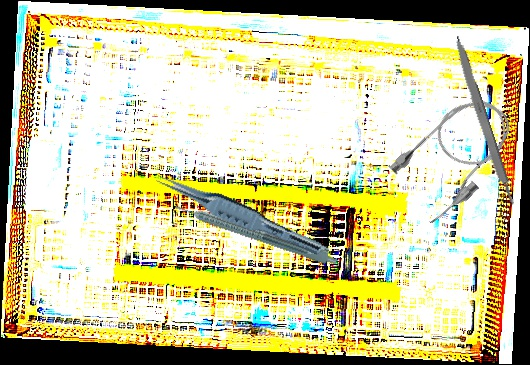Cannula: (381, 83, 530, 230)
Handpiece: (173, 193, 341, 269)
Scalpel Handle: (449, 34, 517, 208)
Tissue Forceps: (151, 169, 327, 257)
